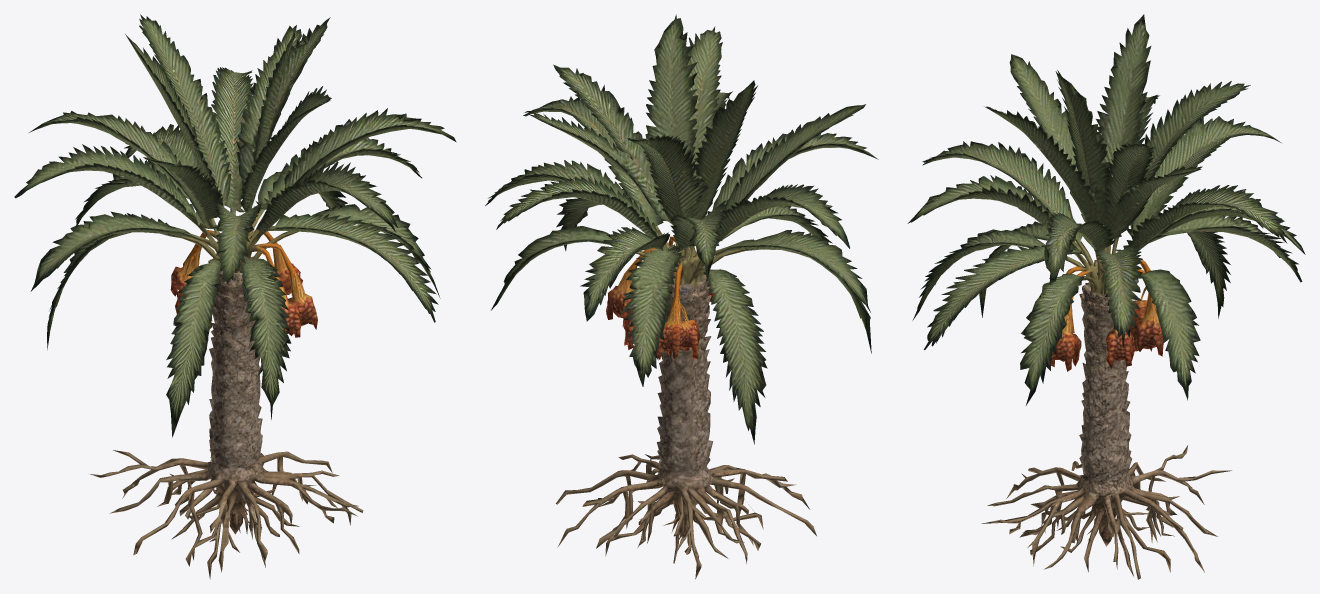
File: datepalm.glb
The picture shows the model from 3 angles, left to right: view 1: azimuth 30°, elevation 25°; view 2: azimuth 150°, elevation 25°; view 3: azimuth 270°, elevation 25°; orthographic projection. The views are drawn at different scales.
Parts seen in each view (by area): view 1: tripo_node_65789896-0e43-4da0-9230-552860a969f2; view 2: tripo_node_65789896-0e43-4da0-9230-552860a969f2; view 3: tripo_node_65789896-0e43-4da0-9230-552860a969f2.
Part boxes in pixels (left/top/right/bottom): tripo_node_65789896-0e43-4da0-9230-552860a969f2: left=14, top=14, right=456, bottom=579; tripo_node_65789896-0e43-4da0-9230-552860a969f2: left=485, top=14, right=878, bottom=579; tripo_node_65789896-0e43-4da0-9230-552860a969f2: left=907, top=14, right=1305, bottom=579.
Size of the model in its own units: 0.793 by 1 by 0.7221.
Materials: 1 (1 with a texture image).
